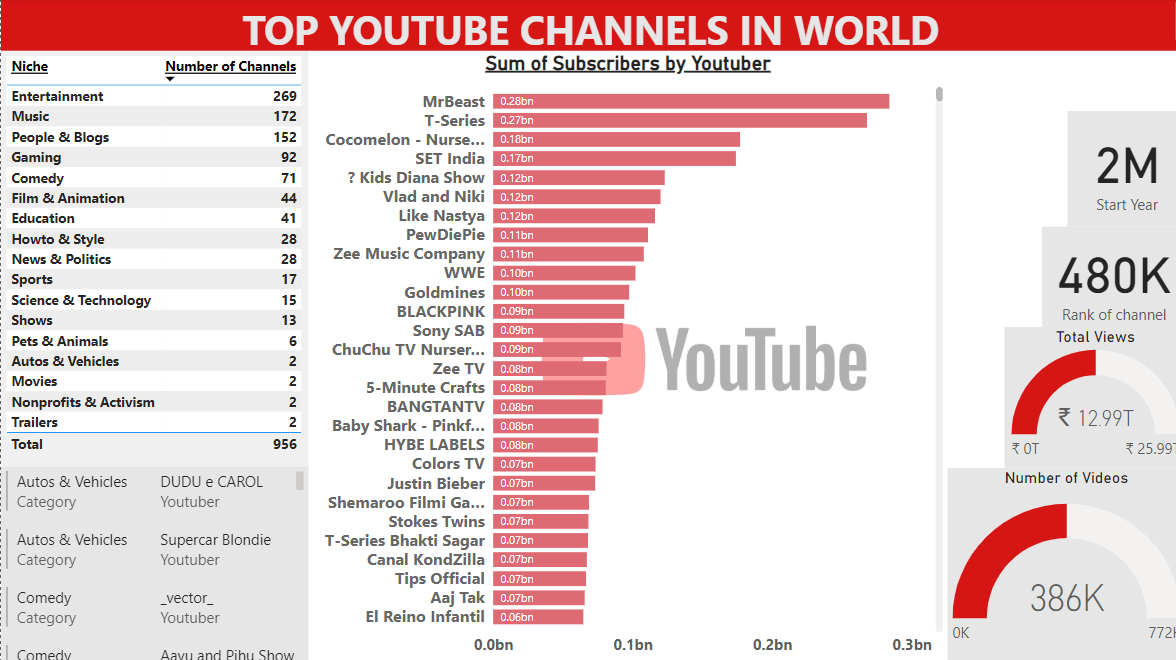

The dashboard page shown, as its layout file describes it:
{"tool":"powerbi","page":{"name":"Page 1","canvas":[1280,720],"ordinal":0},"visuals":[{"type":"tableEx","fields":{"Values":["Top Youtubers Dataset.Category","Top Youtubers Dataset.Category"]},"box":[0,58.3,331.9,448.5],"z":0},{"type":"card","fields":{"Values":["Top Youtubers Dataset.Rank"]},"box":[1124.1,248.3,155.2,112.1],"z":1000},{"type":"card","fields":{"Values":["Top Youtubers Dataset.Started"]},"box":[1151.3,123.1,127.9,124.7],"z":2000},{"type":"barChart","fields":{"Category":["Top Youtubers Dataset.Youtuber"],"Y":["Top Youtubers Dataset.Subscribers"]},"box":[331.9,58.3,689.8,662.3],"z":3000},{"type":"textbox","box":[0,0,1280.8,58.3],"z":4000},{"type":"gauge","fields":{"Y":["Top Youtubers Dataset.Video Count"]},"box":[1022.4,508.6,256.9,212.1],"z":5000},{"type":"gauge","fields":{"Y":["Top Youtubers Dataset.Video Views"]},"box":[1082.8,356.9,196.6,151.7],"z":6000},{"type":"multiRowCard","fields":{"Values":["Top Youtubers Dataset.Category","Top Youtubers Dataset.Youtuber"]},"box":[0,506.8,331.9,213.7],"z":7001}]}

Visuals, with their boxes in screenshot pixels (x1, y1, x2, y2), scaled from the page's 1280x720 canvas onto the 1176x660 screenshot:
tableEx - Top Youtubers Dataset.Category x Top Youtubers Dataset.Category: <region>0, 53, 305, 465</region>
card - Top Youtubers Dataset.Rank: <region>1033, 228, 1175, 330</region>
card - Top Youtubers Dataset.Started: <region>1058, 113, 1175, 227</region>
barChart - Top Youtubers Dataset.Youtuber x Top Youtubers Dataset.Subscribers: <region>305, 53, 939, 659</region>
textbox: <region>0, 0, 1175, 53</region>
gauge - Top Youtubers Dataset.Video Count: <region>939, 466, 1175, 659</region>
gauge - Top Youtubers Dataset.Video Views: <region>995, 327, 1175, 466</region>
multiRowCard - Top Youtubers Dataset.Category x Top Youtubers Dataset.Youtuber: <region>0, 465, 305, 659</region>
